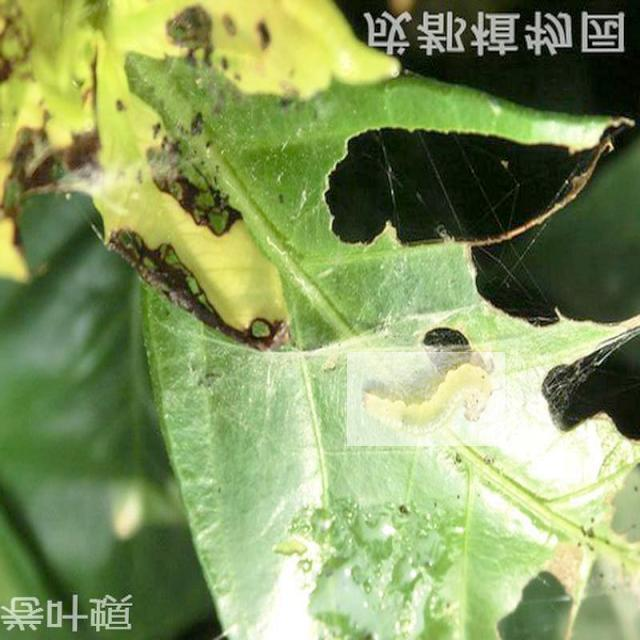leaf-folder: (347, 352, 505, 446)
